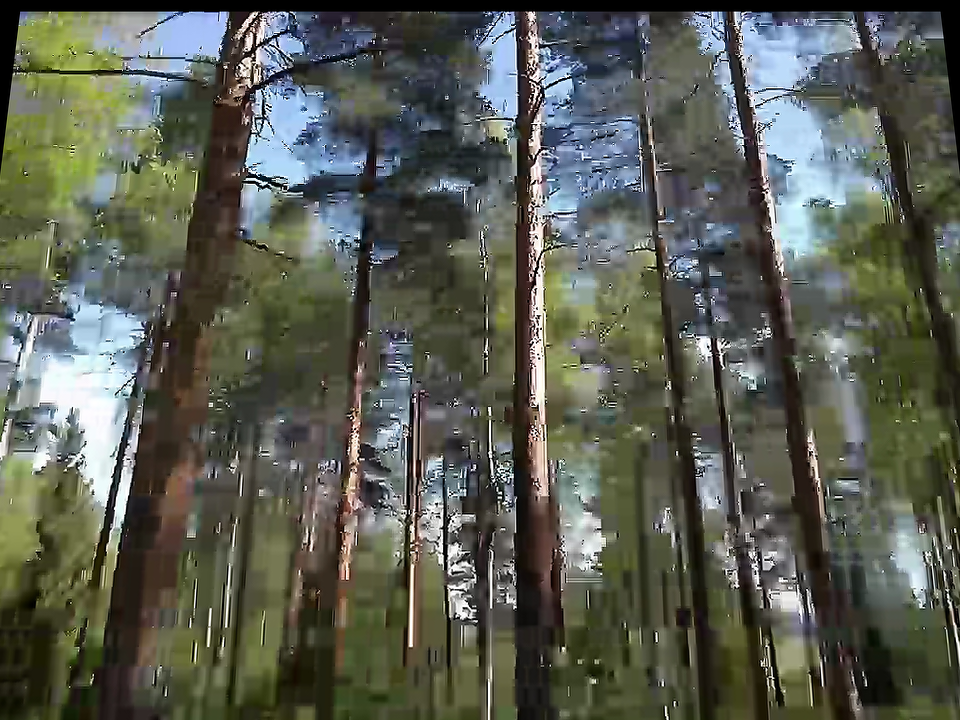branch: (543, 67, 581, 94), (534, 206, 580, 228), (463, 112, 516, 130), (540, 235, 580, 258)
trunk: (495, 271, 578, 707), (505, 27, 555, 278)
